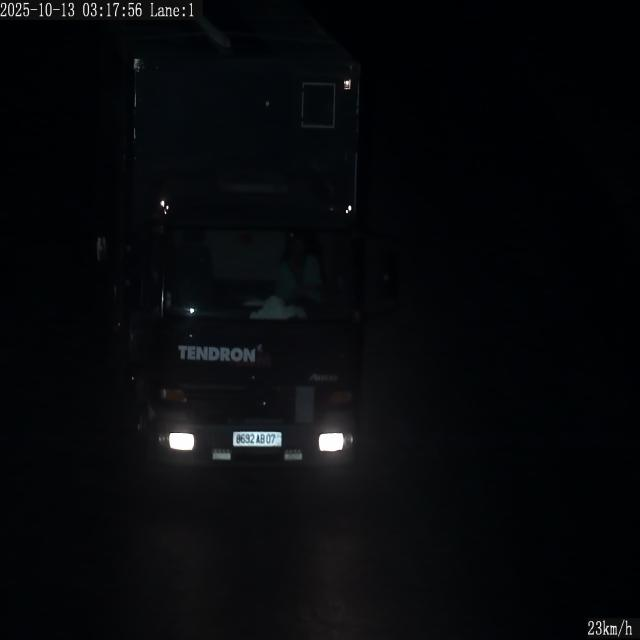BUS: (233, 432, 281, 447)
